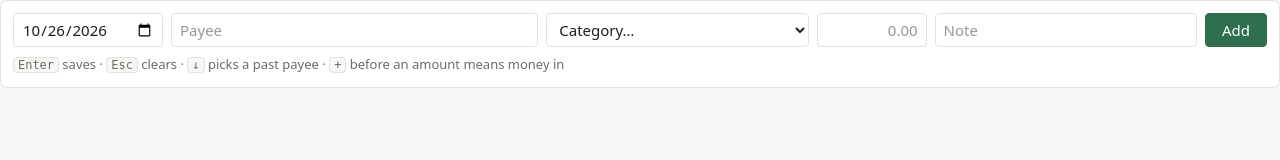
Test case: EntryRow › picking a payee fills in its latest category
The image size is (1280, 160).
Step 1. Click the dropdown labelled "Payee" → (355, 30), box [171,13,538,47]
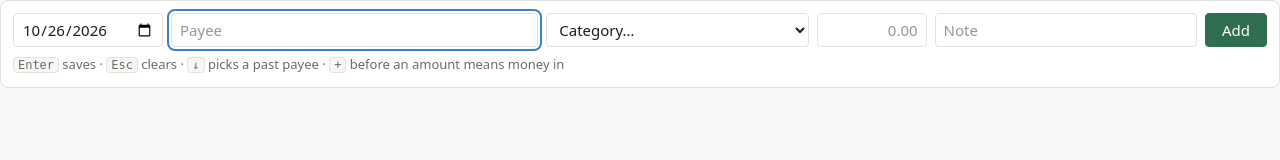
Step 2. Type keys "trader{ArrowDown}{Enter}"
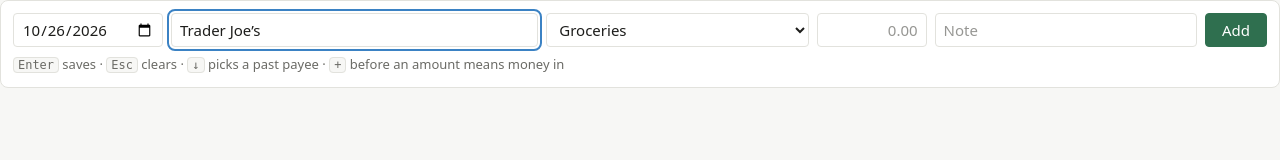
Now the dropdown named "Payee" holds "Trader Joe’s", box [171,13,538,47]
Now the dropdown named "Category" shows "Groceries", box [546,13,809,47]
